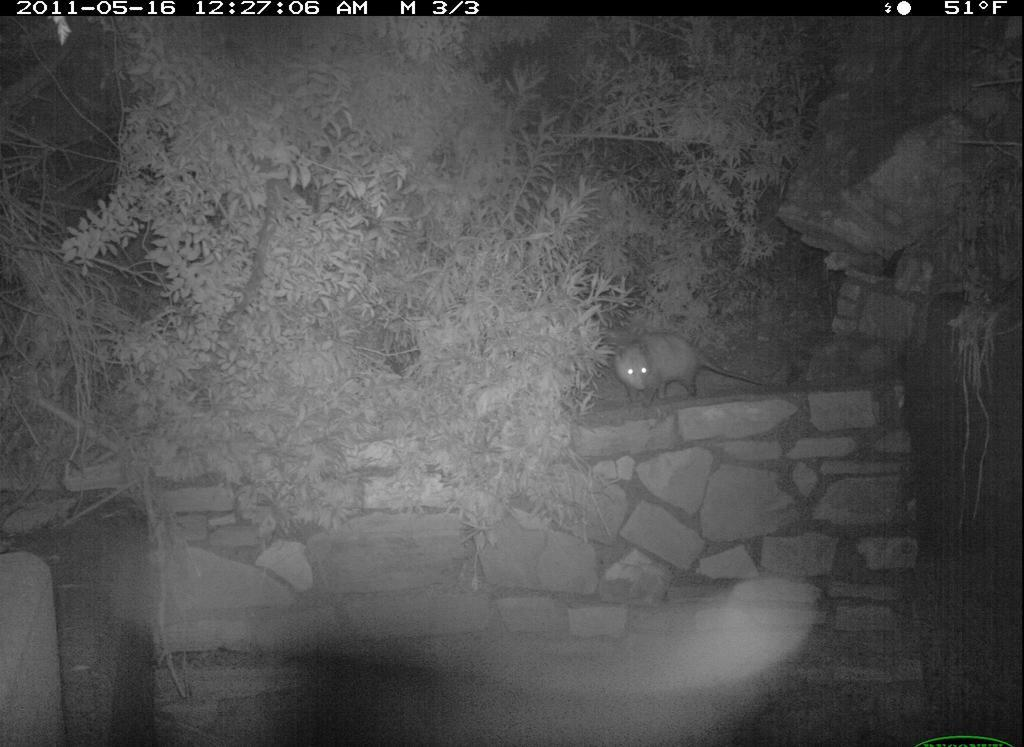opossum: (596, 321, 777, 420)
